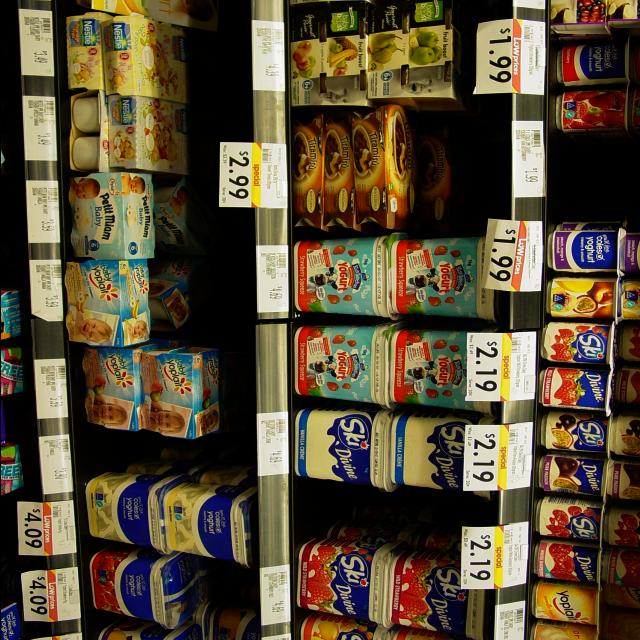empty_space: (549, 131, 639, 219), (293, 490, 459, 523), (206, 210, 250, 334), (461, 110, 508, 226), (191, 38, 243, 142), (82, 436, 158, 459)
